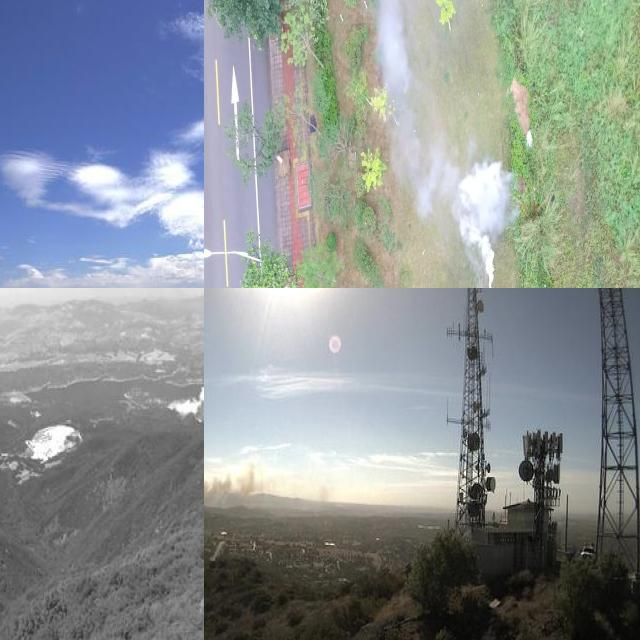smoke: (375, 0, 451, 220), (454, 161, 514, 288), (204, 453, 274, 517)
